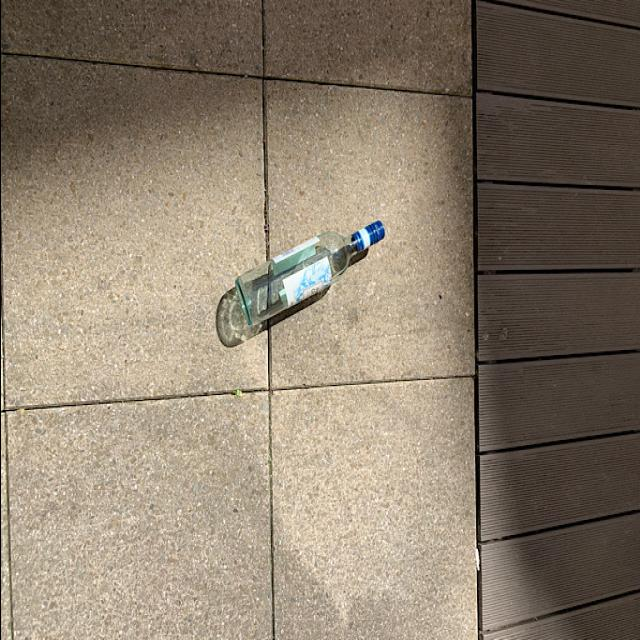litter: (232, 209, 390, 330)
